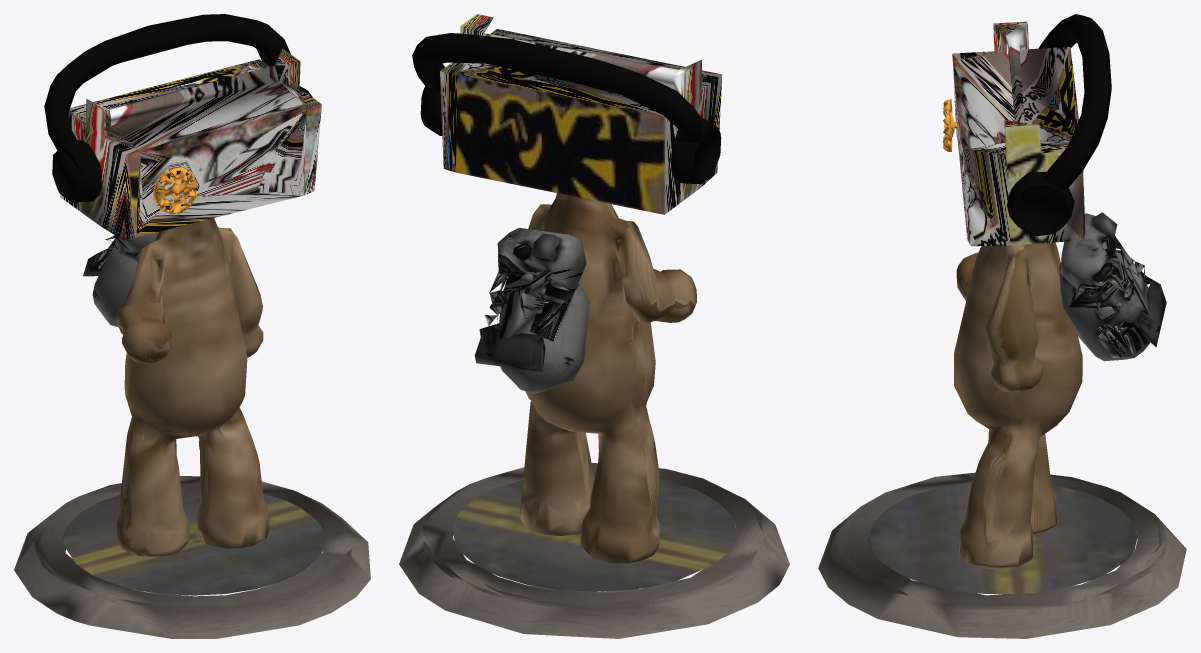
3 renders of one model, left to right at view 1: azimuth 30°, elevation 25°; view 2: azimuth 150°, elevation 25°; view 3: azimuth 270°, elevation 25°, orthographic. The views are drawn at different scales.
Size of the model in its own units: 1.44 by 2.22 by 1.44.
Materials: 7 (6 with a texture image).
